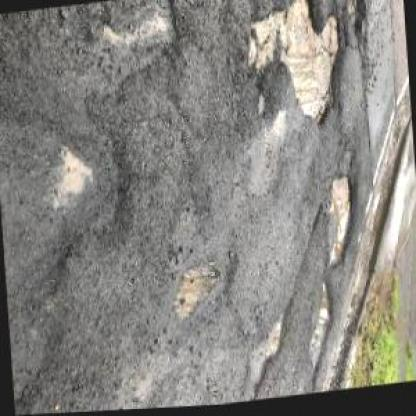pothole: (241, 0, 354, 144), (97, 0, 189, 64), (320, 175, 361, 272), (168, 260, 223, 324), (304, 284, 340, 373)
